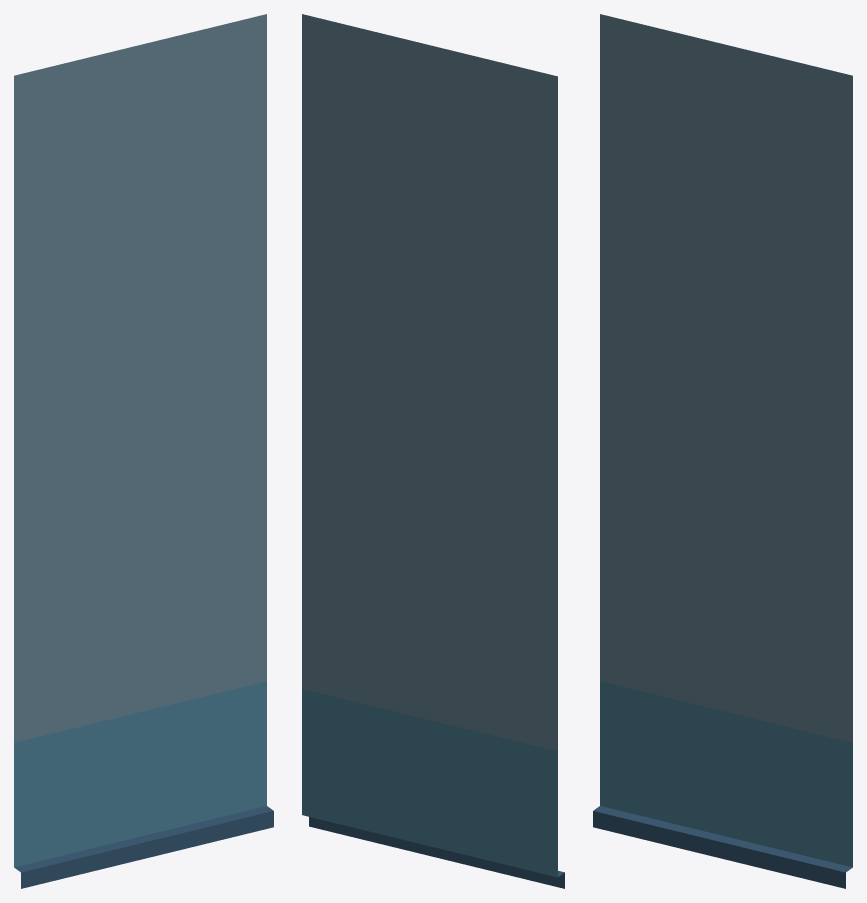
The model's file is wall.fbx.
3 views of the same model, side by side, from view 1: azimuth 30°, elevation 25°; view 2: azimuth 150°, elevation 25°; view 3: azimuth 330°, elevation 25° (orthographic).
Parts seen in each view (by area): view 1: wall; view 2: wall; view 3: wall.
Boxes of the visible parts, bbox=[...] form: wall: bbox=[14, 14, 273, 888]; wall: bbox=[302, 14, 564, 888]; wall: bbox=[593, 14, 852, 888].
Bounding box in the file's own units: 1000 × 3054 × 47.48.
